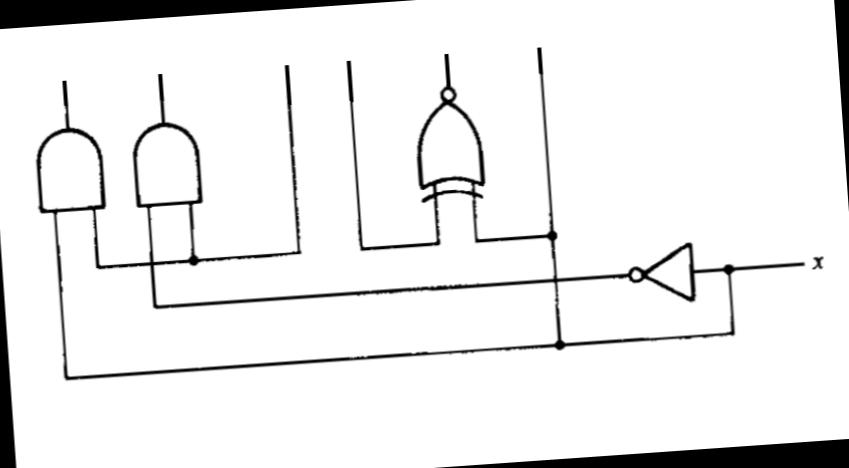and: (124, 114, 215, 220), (28, 124, 111, 224)
not: (618, 238, 708, 316)
xnor: (403, 78, 494, 212)
